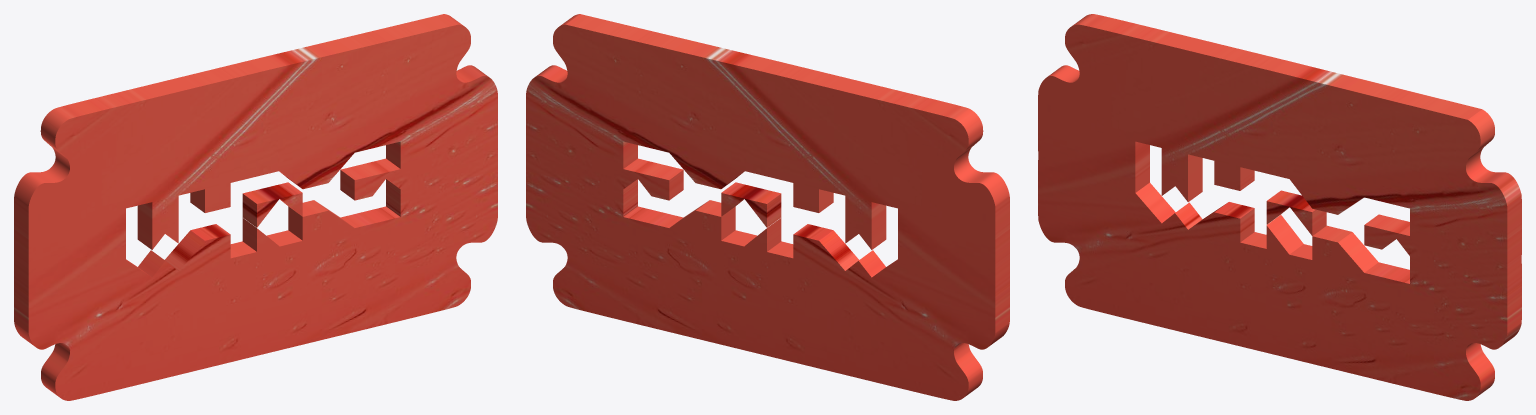
File: fresh-red-paint.glb
The picture shows the model from 3 angles, left to right: view 1: azimuth 30°, elevation 25°; view 2: azimuth 150°, elevation 25°; view 3: azimuth 330°, elevation 25°; orthographic projection.
Visible parts, largest first — view 1: Razor; view 2: Razor; view 3: Razor.
Boxes of the visible parts, x1=… form: Razor: x1=14, y1=14, x2=497, y2=400; Razor: x1=526, y1=14, x2=1009, y2=400; Razor: x1=1038, y1=14, x2=1521, y2=400.
Bounding box in the file's own units: 0.5609 × 0.3234 × 0.03.
Materials: 1 (1 with a texture image).
